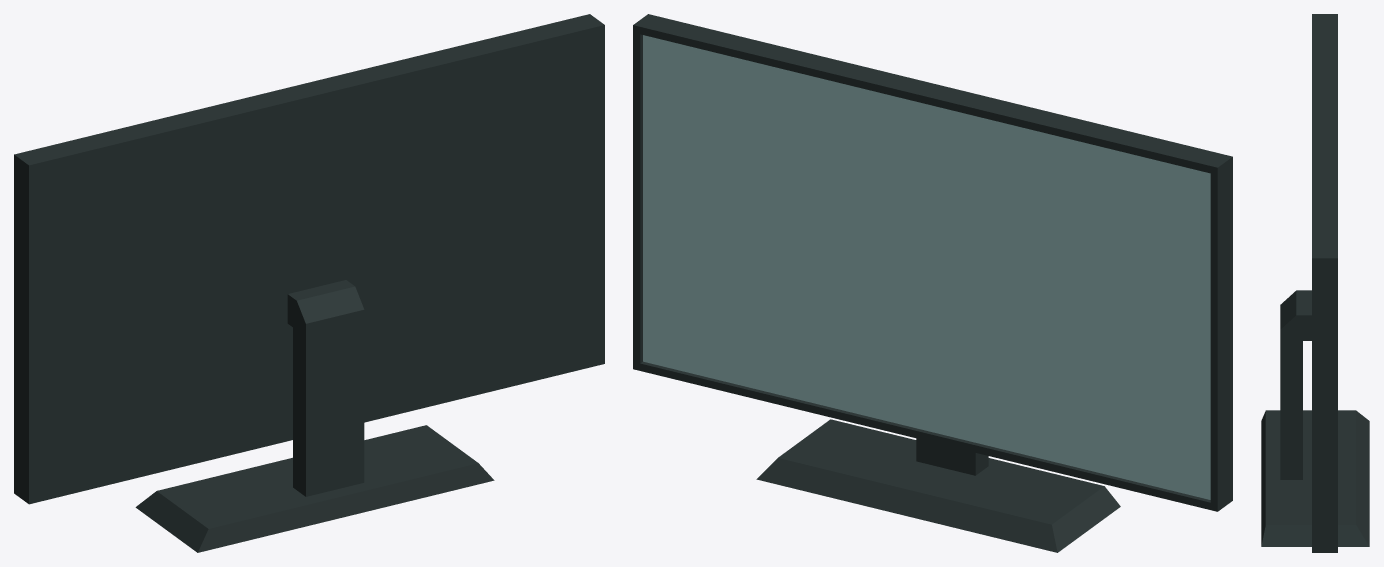
File: televisionModern.glb
3 views of the same model, side by side, from view 1: azimuth 30°, elevation 25°; view 2: azimuth 150°, elevation 25°; view 3: azimuth 270°, elevation 25° (orthographic). The views are drawn at different scales.
Bounding box in the file's own units: 6.85 × 4.55 × 1.28.
